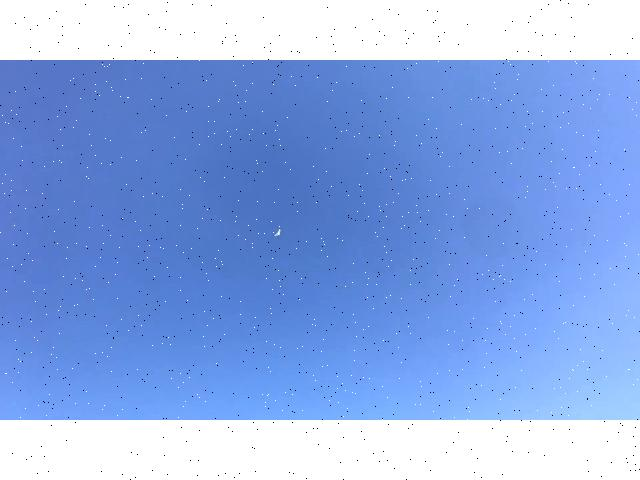Anti-Drone: (272, 220, 290, 244)
